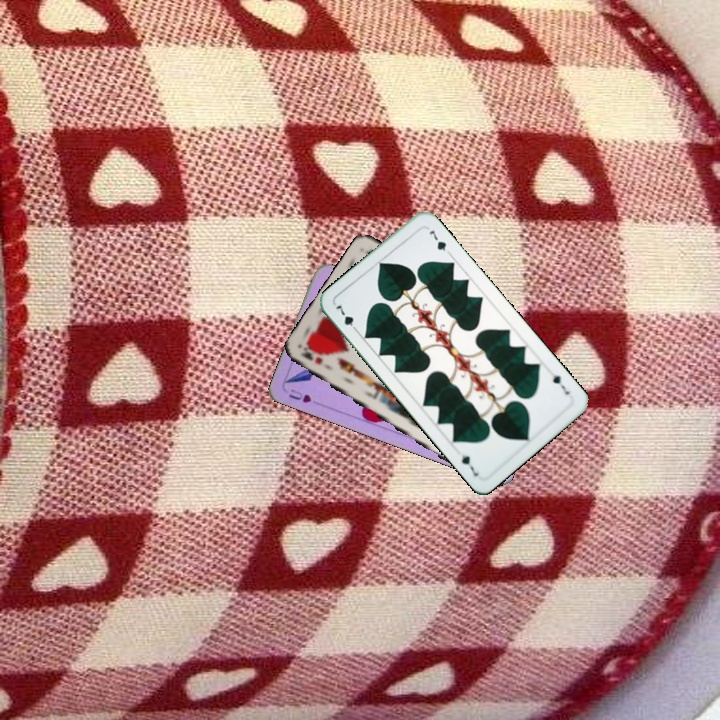G7: (330, 301, 361, 335), (549, 371, 572, 397)
HK: (296, 342, 325, 367)
HU: (285, 385, 322, 408)
